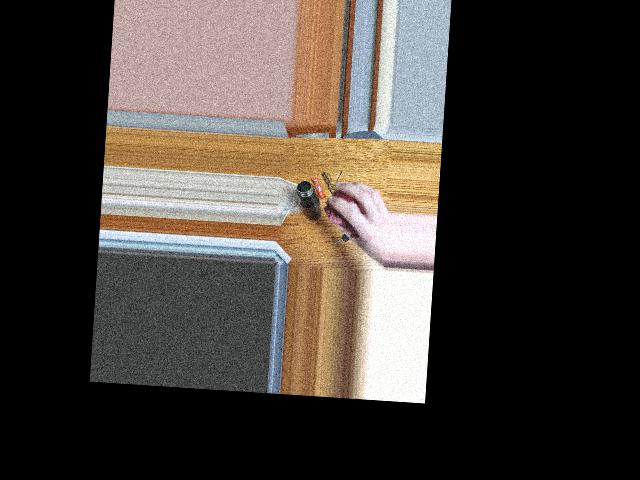onion: (328, 186, 363, 232)
